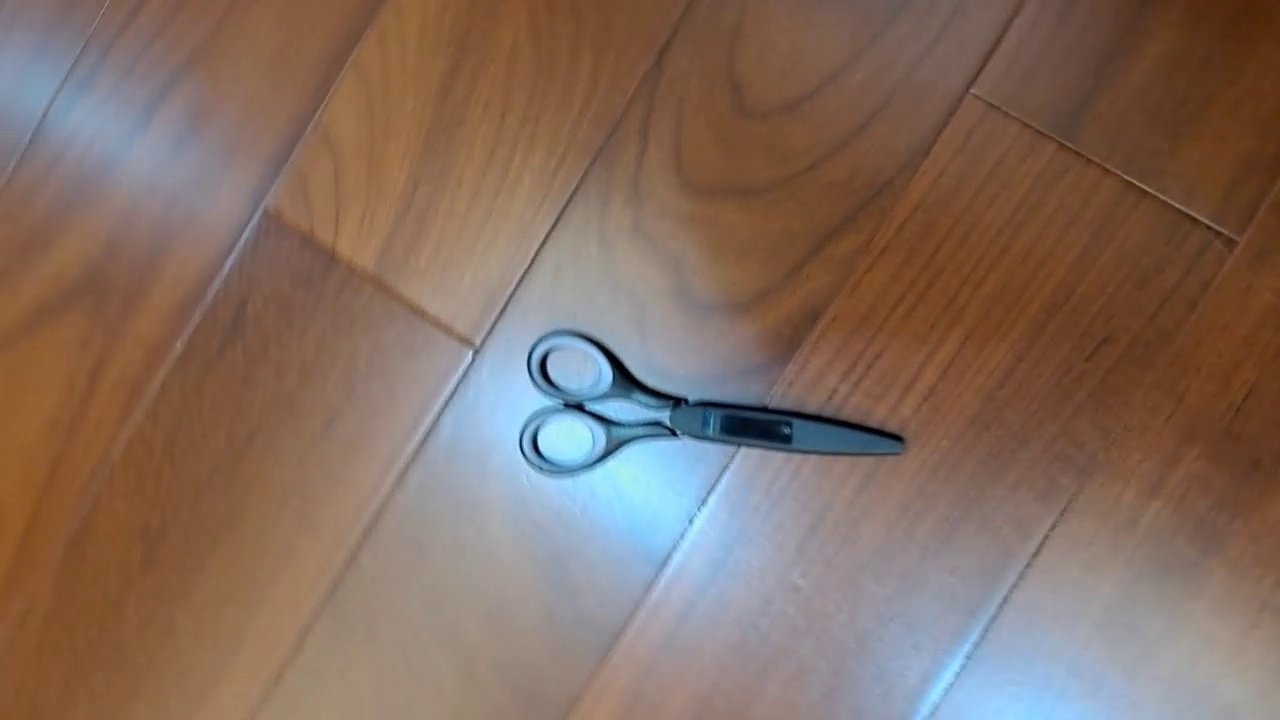scissors: (518, 326, 908, 479)
